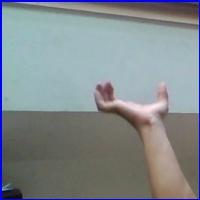space: (89, 75, 173, 122)
